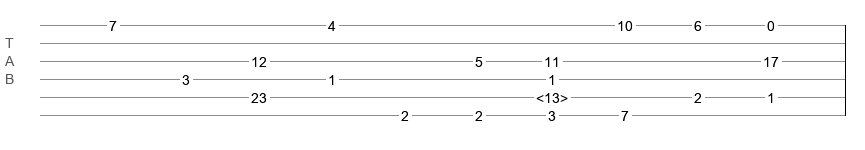0: (767, 18, 775, 28)
1: (328, 72, 336, 82), (548, 72, 556, 82), (767, 90, 775, 100)
10: (617, 18, 633, 28)
11: (544, 54, 560, 64)
12: (251, 54, 267, 64)
17: (763, 54, 779, 64)
2: (401, 108, 409, 118), (475, 108, 483, 118), (694, 90, 702, 100)
23: (251, 90, 267, 100)
3: (182, 72, 190, 82), (548, 108, 556, 118)
4: (328, 18, 336, 28)
5: (475, 54, 483, 64)
6: (694, 18, 702, 28)
7: (109, 18, 117, 28), (621, 108, 629, 118)
harmonic: (536, 90, 568, 100)
